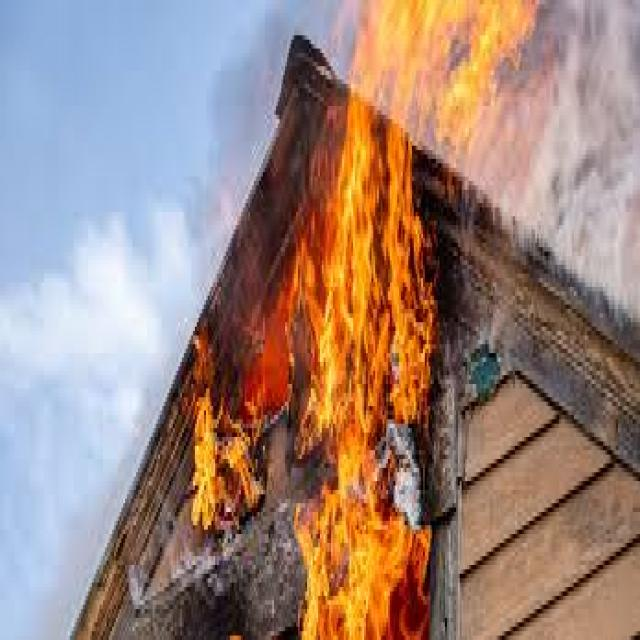fire: (318, 5, 524, 640), (190, 331, 267, 537)
